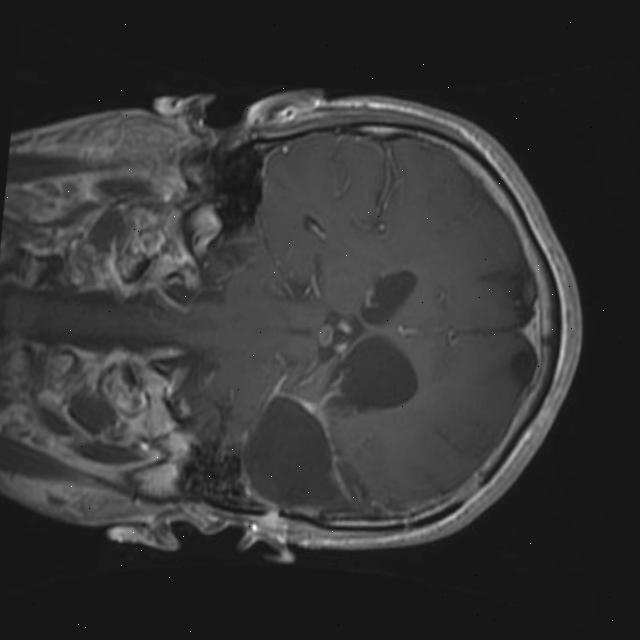Glioma: (238, 389, 365, 517)
